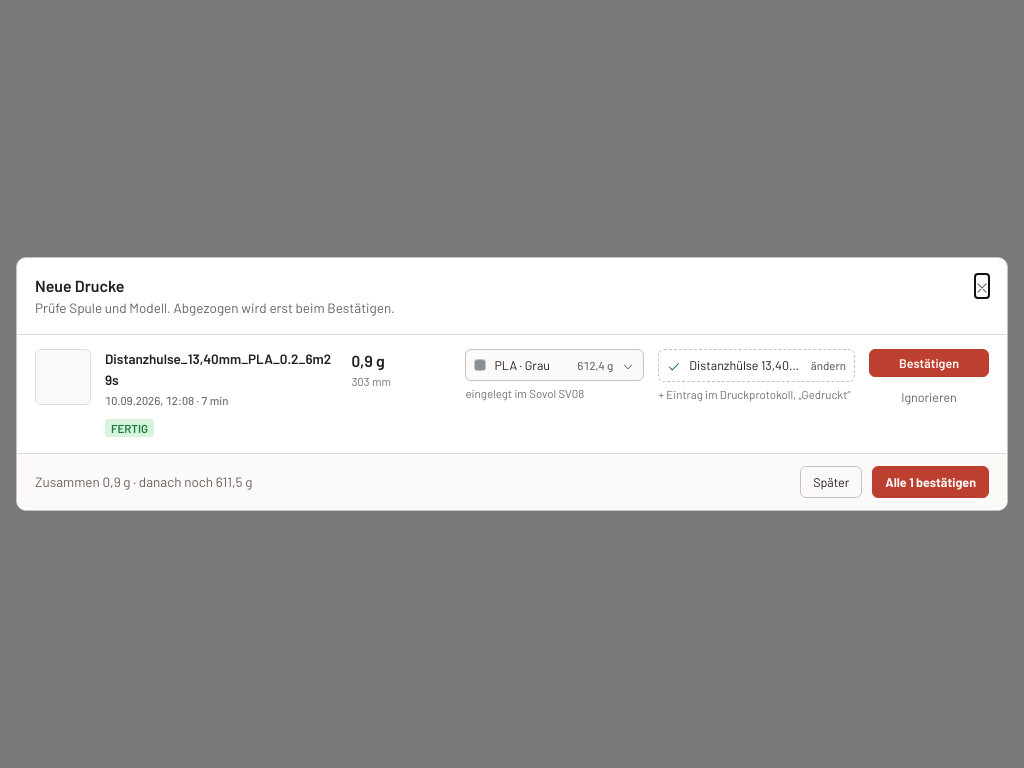
Test case: PrinterJobsDialog › shows how many prints could not be booked when confirmJobs reports failures
This screenshot has width=1024, height=768.
Click the button "Bestätigen" at (929, 363), box [869,349,989,377]
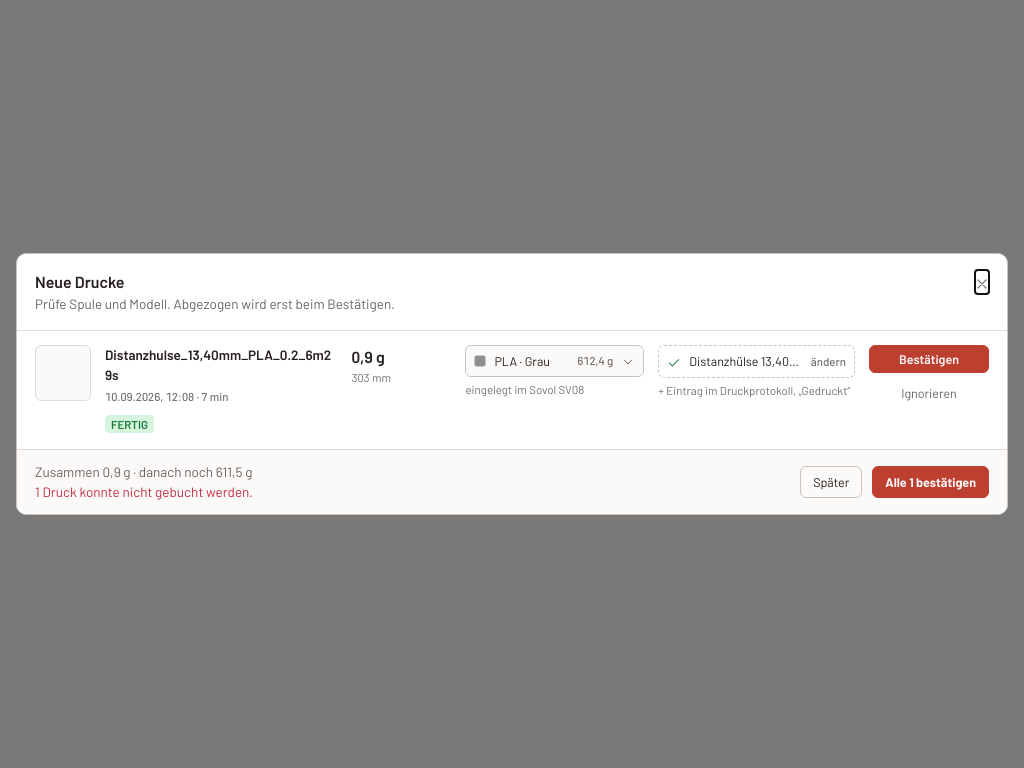
Expected: the text "1 Druck konnte nicht gebucht werden." is shown, [35,482,253,502]
